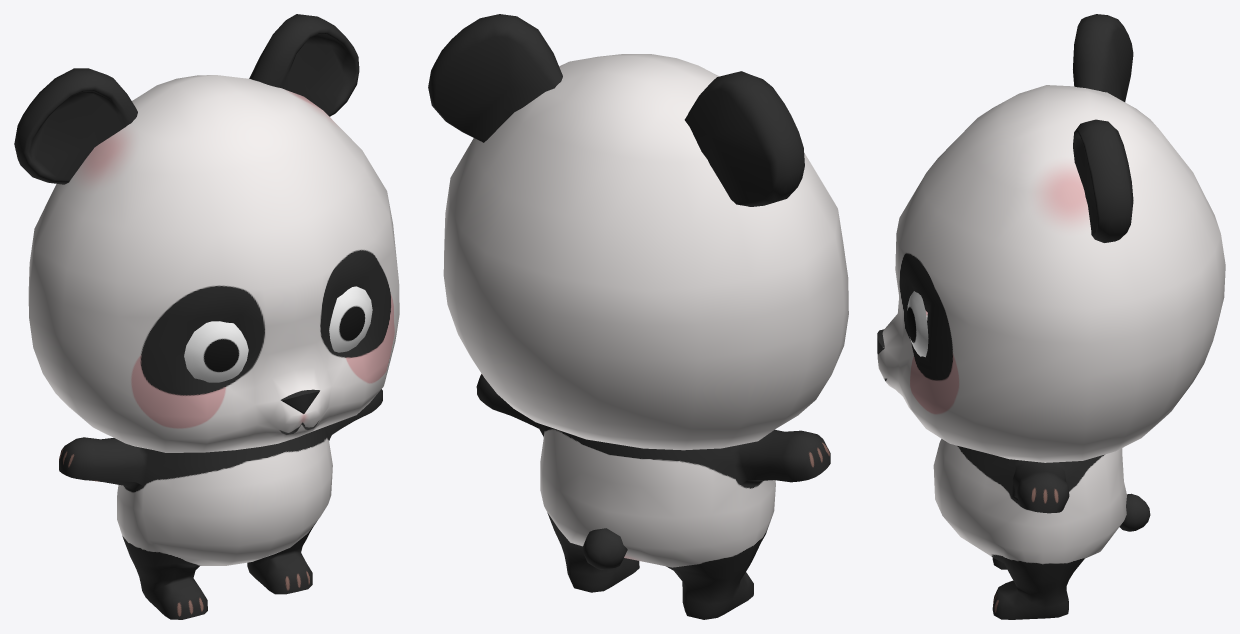
The model's file is panda01.fbx.
3 renders of one model, left to right at view 1: azimuth 30°, elevation 25°; view 2: azimuth 150°, elevation 25°; view 3: azimuth 270°, elevation 25°, orthographic. The views are drawn at different scales.
Visible parts, largest first — view 1: panda01_low; view 2: panda01_low; view 3: panda01_low.
Part boxes in pixels (<box>): panda01_low: <box>14,14,399,619</box>; panda01_low: <box>428,14,848,619</box>; panda01_low: <box>877,14,1225,619</box>.
Size of the model in its own units: 6.1 by 9.03 by 5.53.
